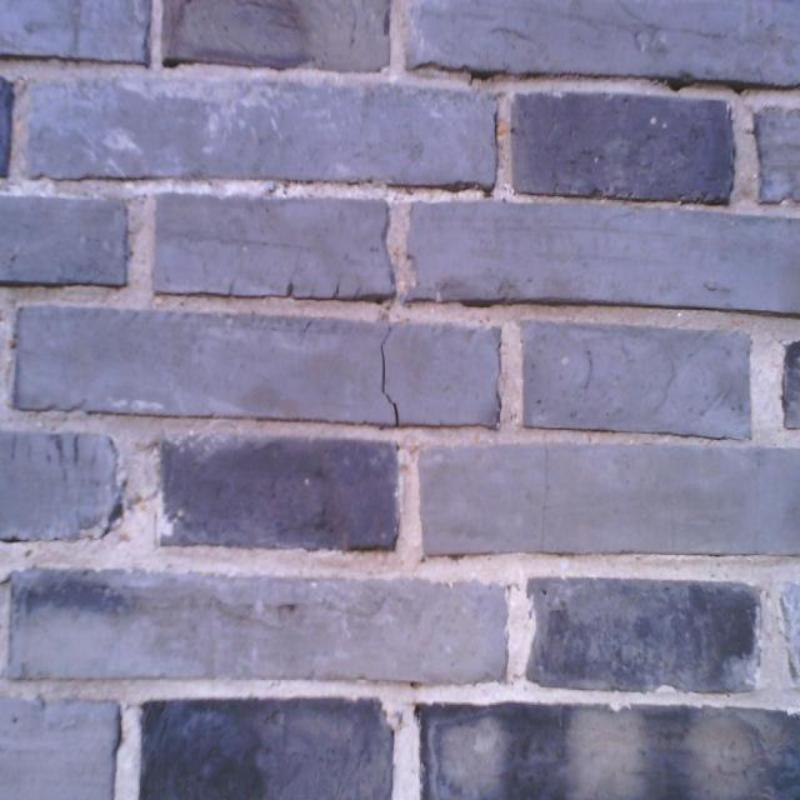pothole: (380, 326, 400, 428), (540, 444, 549, 555)
